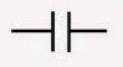Capacitor: (37, 5, 86, 57)
